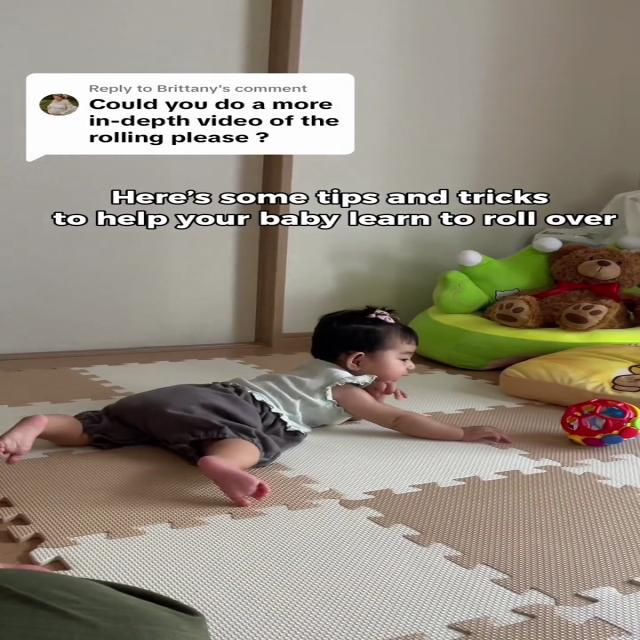baby: (0, 306, 544, 529)
